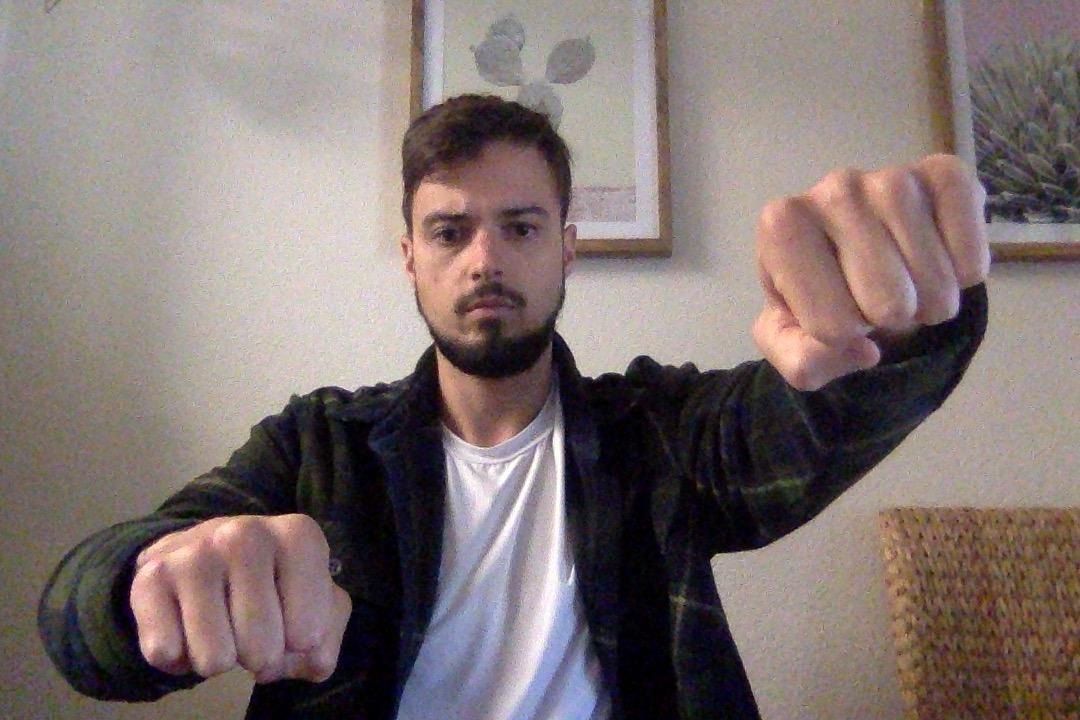Oncoming-Punch: (744, 153, 995, 412), (140, 521, 349, 709)
